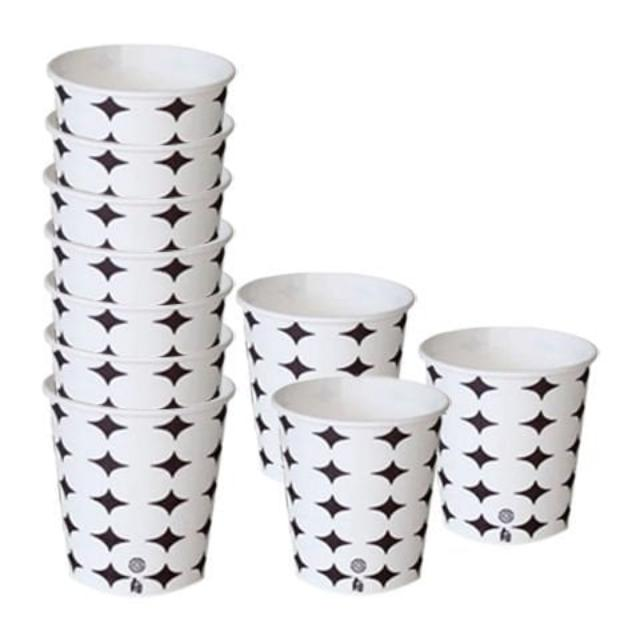trash: (243, 268, 603, 600), (44, 21, 230, 601)
